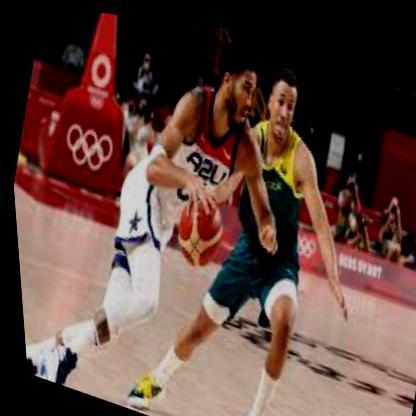basketball: (164, 181, 228, 272)
